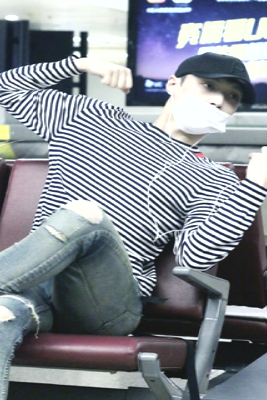mask_weared_incorrect: (175, 77, 241, 133)
